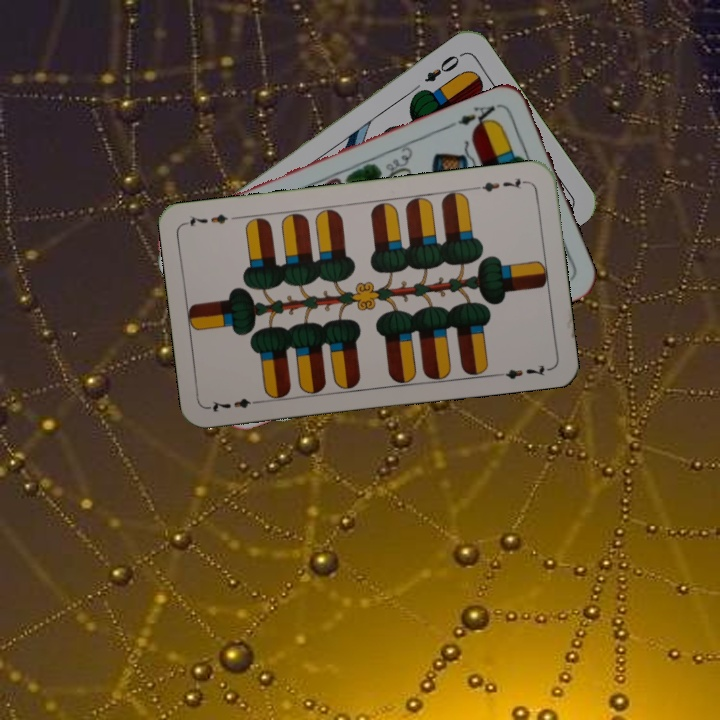E7: (471, 174, 530, 195), (205, 394, 264, 415)
EA: (453, 100, 503, 132)
EO: (420, 51, 463, 85)
